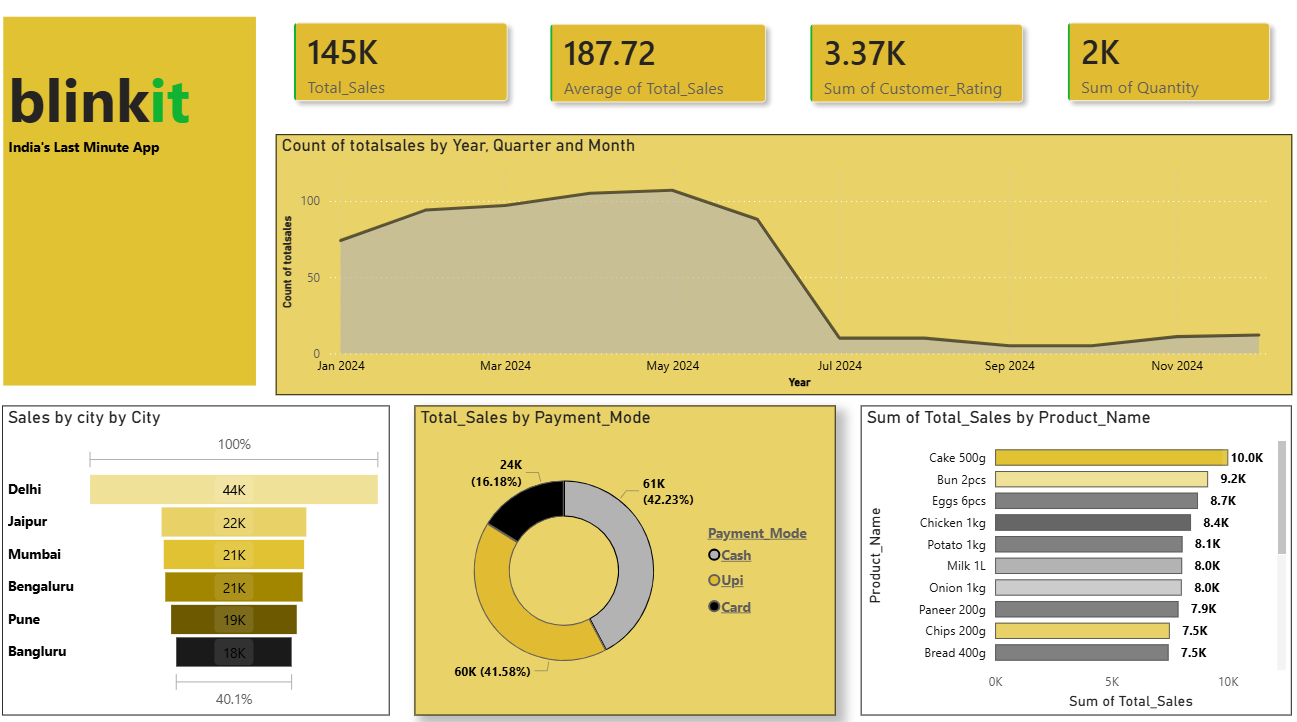

The page's visual inventory and layout, read from the dashboard file:
{"tool":"powerbi","page":{"name":"Page 2","canvas":[1280,720],"ordinal":1},"visuals":[{"type":"textbox","box":[11,23.2,247,360.7],"z":0},{"type":"lineChart","fields":{"Category":["Blinkit_Sales.Date.Variation.Date Hierarchy.Year","Blinkit_Sales.Date.Variation.Date Hierarchy.Quarter","Blinkit_Sales.Date.Variation.Date Hierarchy.Month","Blinkit_Sales.Date.Variation.Date Hierarchy.Day"],"Y":["CountNonNull(Blinkit_Sales.totalsales)"]},"box":[277.6,138.2,994.2,255.6],"z":1000},{"type":"cardVisual","fields":{"Data":["Sum(Blinkit_Sales.Total_Sales)"]},"box":[266.6,0,267.8,135.7],"z":2000},{"type":"cardVisual","fields":{"Data":["Avg(Blinkit_Sales.Total_Sales)"]},"box":[517.3,1.2,269,135.7],"z":3000},{"type":"cardVisual","fields":{"Data":["Sum(Blinkit_Sales.Quantity)"]},"box":[1023.5,0,256.8,135.7],"z":4000},{"type":"cardVisual","fields":{"Data":["Sum(Blinkit_Sales.Customer_Rating)"]},"box":[771.6,1.2,266.6,135.7],"z":5000},{"type":"donutChart","fields":{"Category":["Blinkit_Sales.Payment_Mode"],"Y":["Sum(Blinkit_Sales.Total_Sales)"]},"box":[413.3,403.5,412.1,303.3],"z":6000},{"type":"funnel","fields":{"Category":["Blinkit_Sales.City"],"Y":["Sum(Blinkit_Sales.Total_Sales)"]},"box":[9.8,403.5,379.1,303.3],"z":7000},{"type":"clusteredBarChart","fields":{"Category":["Blinkit_Sales.Product_Name"],"Y":["Sum(Blinkit_Sales.Total_Sales)"]},"box":[849.9,403.5,421.9,303.3],"z":8000}]}

Visuals, with their boxes in screenshot pixels (x1, y1, x2, y2), scaled from the page's 1280x720 canvas onto the 1297x722 screenshot:
textbox: (11, 23, 261, 385)
lineChart - Blinkit_Sales.Date.Variation.Date Hierarchy.Year x Blinkit_Sales.Date.Variation.Date Hierarchy.Quarter: (281, 139, 1289, 395)
cardVisual - Sum(Blinkit_Sales.Total_Sales): (270, 0, 541, 136)
cardVisual - Avg(Blinkit_Sales.Total_Sales): (524, 1, 797, 137)
cardVisual - Sum(Blinkit_Sales.Quantity): (1037, 0, 1296, 136)
cardVisual - Sum(Blinkit_Sales.Customer_Rating): (782, 1, 1052, 137)
donutChart - Blinkit_Sales.Payment_Mode x Sum(Blinkit_Sales.Total_Sales): (419, 405, 836, 709)
funnel - Blinkit_Sales.City x Sum(Blinkit_Sales.Total_Sales): (10, 405, 394, 709)
clusteredBarChart - Blinkit_Sales.Product_Name x Sum(Blinkit_Sales.Total_Sales): (861, 405, 1289, 709)
